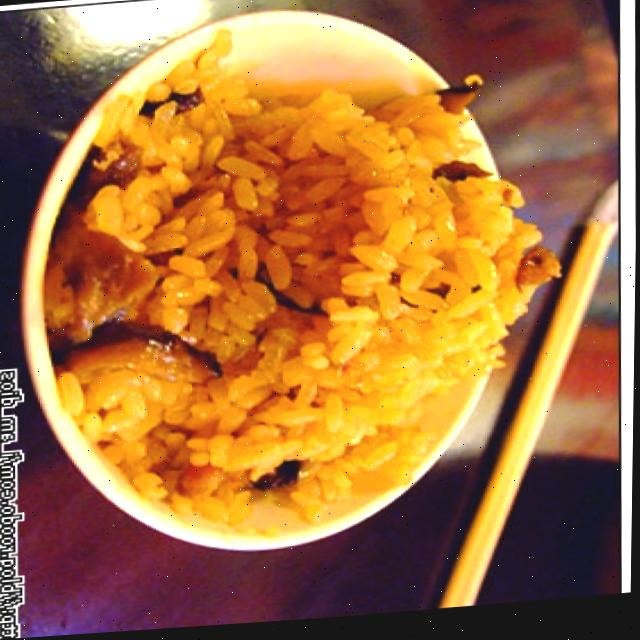米饭主食: (43, 4, 546, 557)
